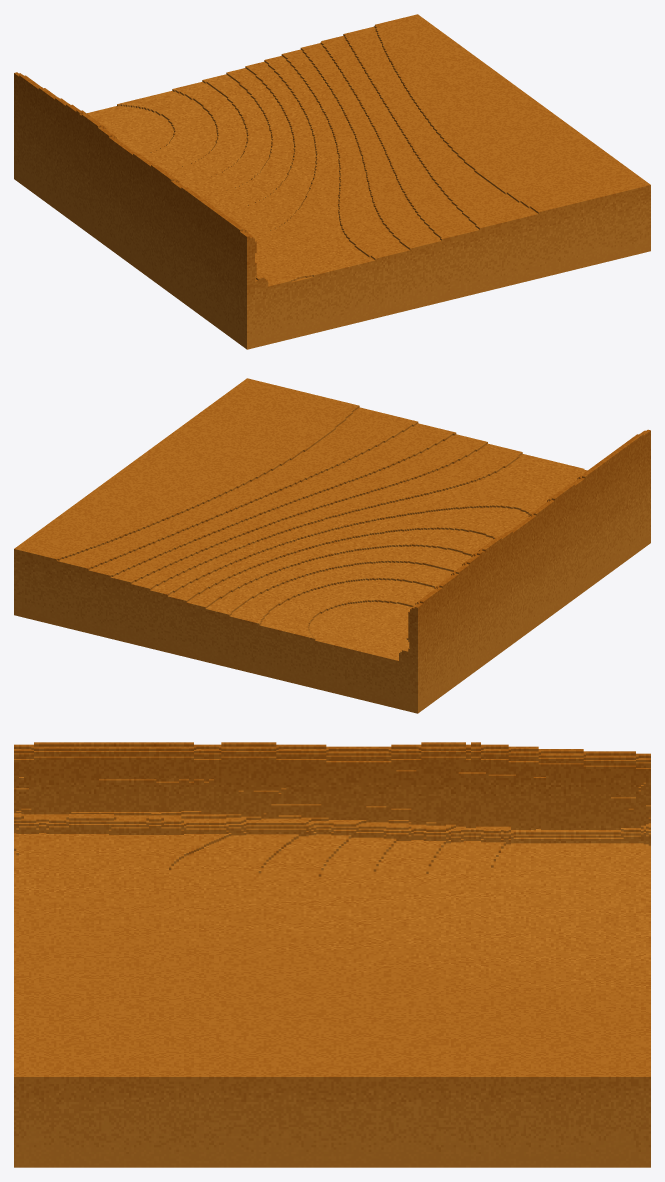
Rendered from Marte-7.obj.
The picture shows the model from 3 angles, top to bottom: view 1: azimuth 30°, elevation 25°; view 2: azimuth 150°, elevation 25°; view 3: azimuth 270°, elevation 25°; orthographic projection. The views are drawn at different scales.
Bounding box in the file's own units: 25.5 × 6.9 × 25.5.
Materials: 1 (1 with a texture image).
